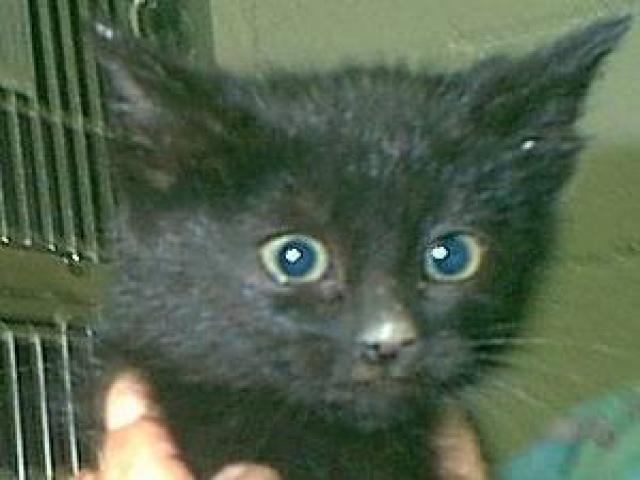cat: (72, 17, 631, 424)
